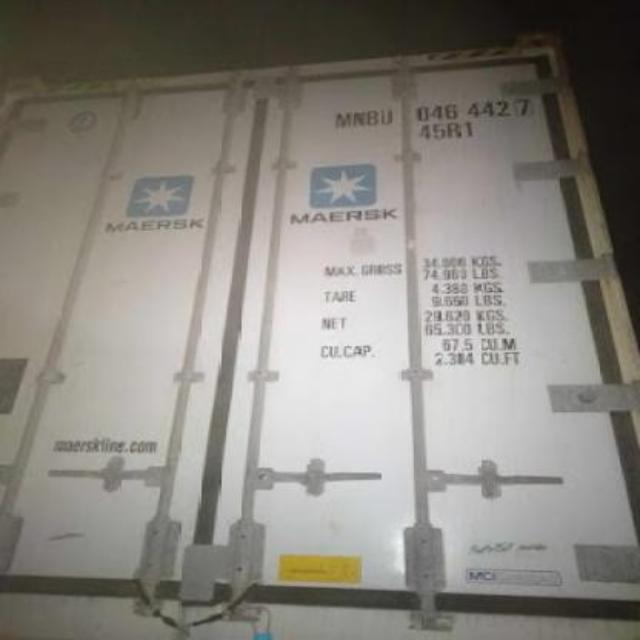0: (414, 105, 432, 123)
2: (494, 95, 514, 118)
4: (466, 98, 484, 118), (480, 98, 496, 119), (430, 103, 446, 121)
6: (444, 100, 464, 122)
7: (510, 94, 534, 116)
B: (366, 108, 382, 128)
M: (332, 111, 353, 129)
N: (350, 109, 368, 129)
U: (376, 106, 396, 128)
